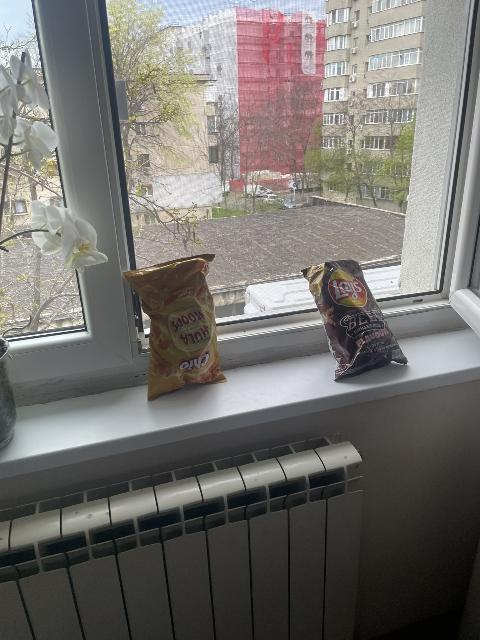Chio Hula Hoops Cheese 70g: (122, 256, 226, 399)
Lays Beef Grilled Ribs 125g: (301, 259, 402, 380)
